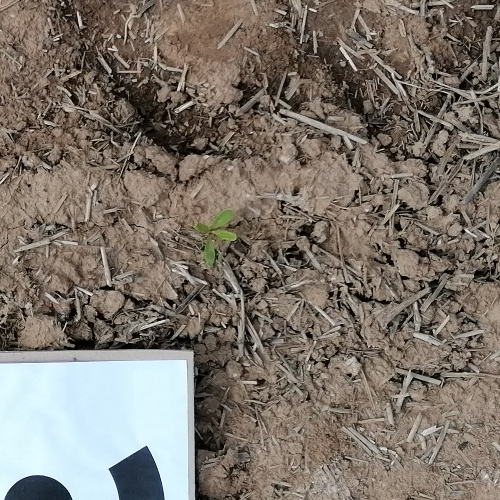beet: (193, 209, 237, 271)
